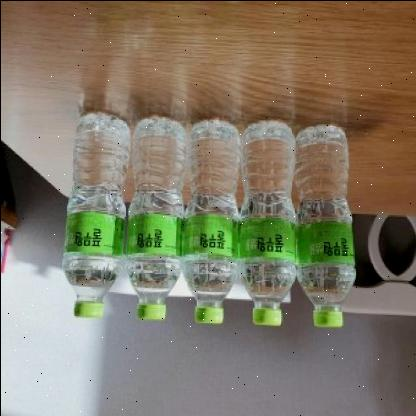Plastic Bottle: (62, 111, 128, 317), (294, 124, 354, 326), (126, 116, 184, 320), (181, 118, 238, 322), (238, 119, 294, 325)
